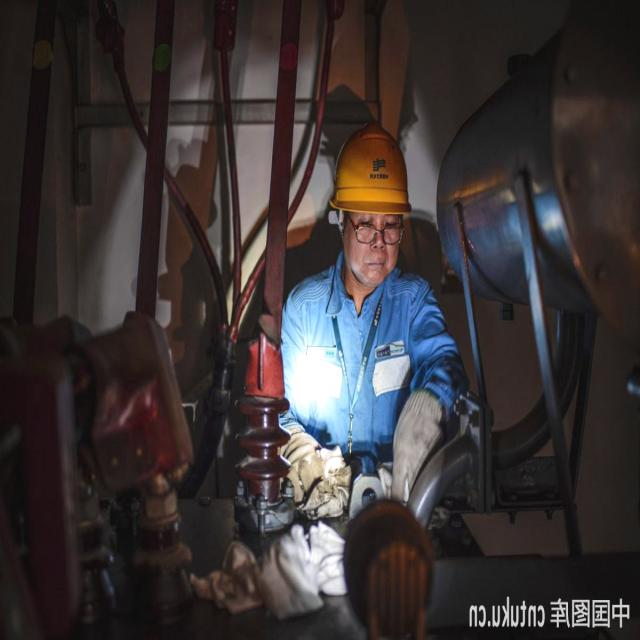face_nomask: (339, 207, 406, 287)
glasses: (352, 220, 404, 251)
hand_glove: (381, 387, 447, 505)
head_helmet: (328, 130, 412, 220)
person: (280, 118, 459, 508)
